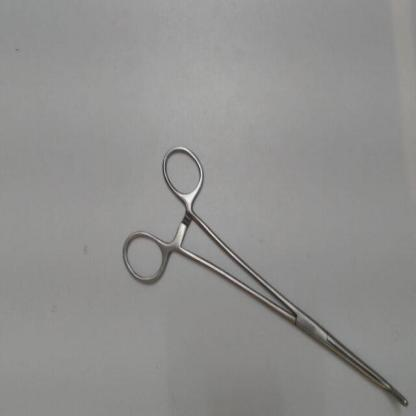Lahey Forceps: (117, 138, 413, 412)
